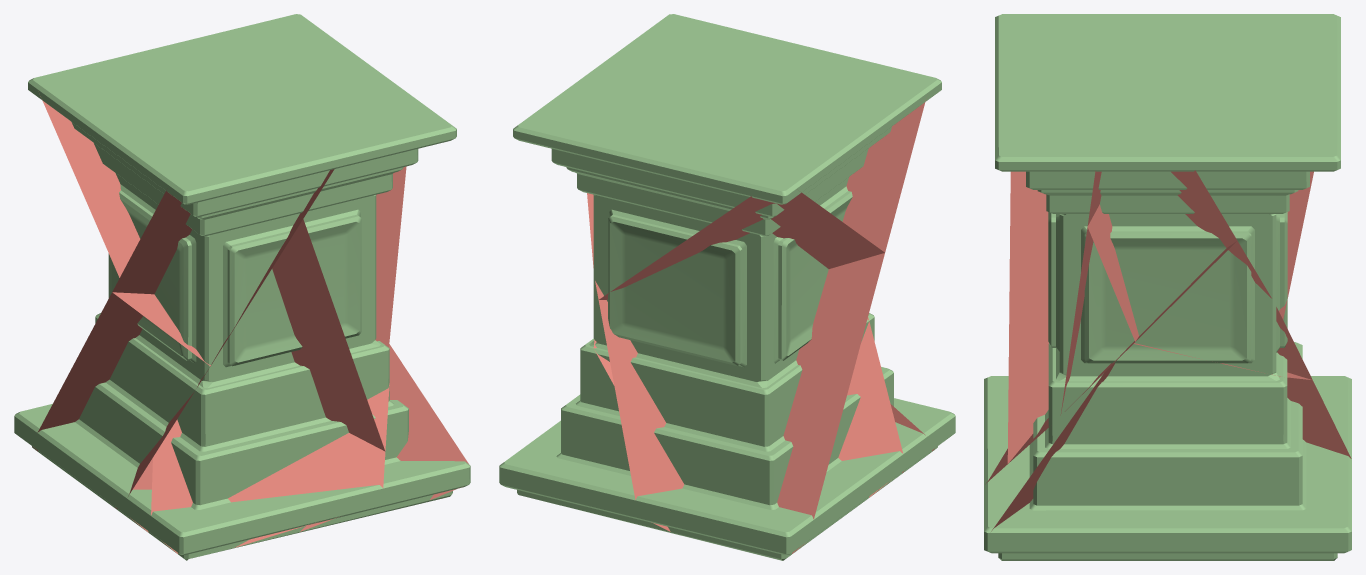
The model's file is pedestal-frags.glb.
3 views of the same model, side by side, from view 1: azimuth 30°, elevation 25°; view 2: azimuth 150°, elevation 25°; view 3: azimuth 270°, elevation 25° (orthographic). The views are drawn at different scales.
Visible parts, largest first — view 1: frag_0, frag_8, frag_9, frag_2, frag_3, frag_1, frag_6, frag_7, frag_4, frag_10, frag_11; view 2: frag_0, frag_1, frag_4, frag_3, frag_2, frag_9, frag_8, frag_7, frag_5, frag_6, frag_11; view 3: frag_4, frag_0, frag_9, frag_11, frag_8, frag_5, frag_10, frag_1, frag_6, frag_2.
Part boxes in pixels (bbox=[...]): frag_0: bbox=[37, 14, 371, 282]; frag_8: bbox=[151, 222, 382, 560]; frag_9: bbox=[272, 93, 456, 451]; frag_2: bbox=[154, 141, 347, 364]; frag_3: bbox=[31, 292, 210, 508]; frag_1: bbox=[14, 75, 159, 451]; frag_6: bbox=[115, 383, 470, 533]; frag_7: bbox=[123, 416, 354, 555]; frag_4: bbox=[389, 344, 470, 502]; frag_10: bbox=[375, 166, 406, 347]; frag_11: bbox=[361, 66, 407, 97]; frag_0: bbox=[513, 45, 927, 299]; frag_1: bbox=[607, 187, 828, 560]; frag_4: bbox=[499, 338, 684, 533]; frag_3: bbox=[777, 277, 903, 555]; frag_2: bbox=[755, 40, 941, 288]; frag_9: bbox=[625, 14, 780, 61]; frag_8: bbox=[852, 313, 955, 451]; frag_7: bbox=[847, 376, 935, 473]; frag_5: bbox=[587, 193, 642, 386]; frag_6: bbox=[838, 416, 904, 497]; frag_11: bbox=[589, 47, 657, 73]; frag_4: bbox=[984, 343, 1351, 560]; frag_0: bbox=[1024, 14, 1340, 319]; frag_9: bbox=[995, 98, 1112, 438]; frag_11: bbox=[1095, 135, 1226, 335]; frag_8: bbox=[984, 171, 1048, 484]; frag_5: bbox=[1133, 241, 1287, 377]; frag_10: bbox=[1061, 204, 1138, 415]; frag_1: bbox=[1276, 14, 1351, 458]; frag_6: bbox=[984, 363, 1114, 544]; frag_2: bbox=[995, 14, 1026, 105].
Size of the model in its own units: 0.1876 by 0.228 by 0.1876.
